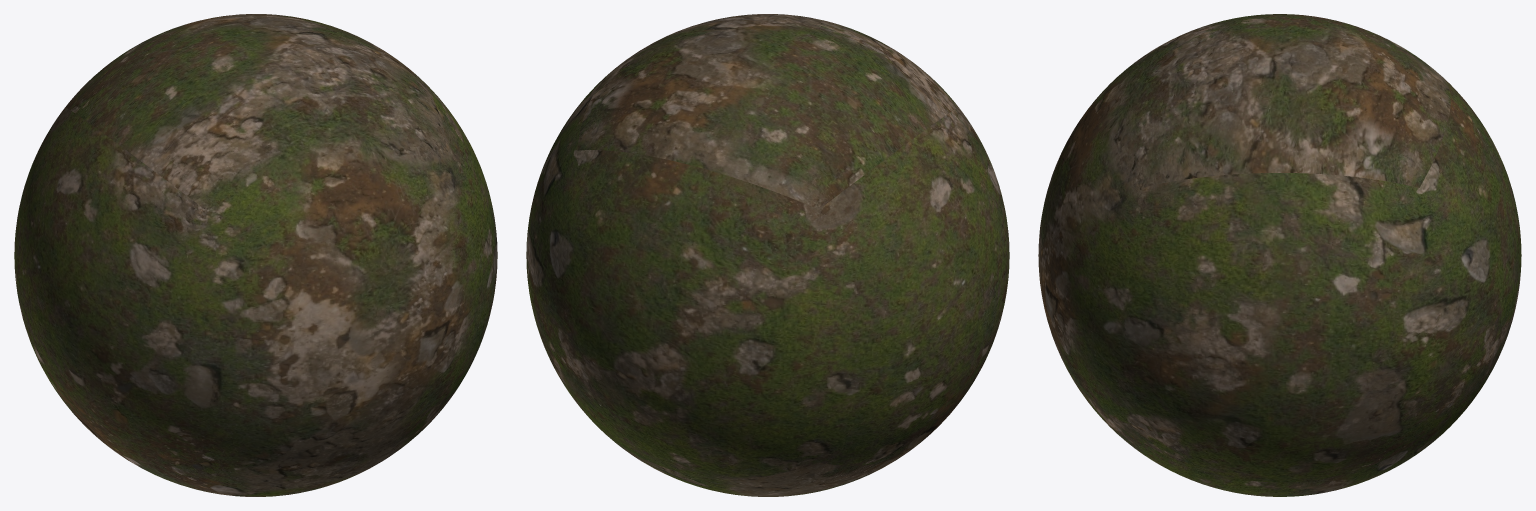
The model's file is radioball.glb.
The picture shows the model from 3 angles, left to right: view 1: azimuth 30°, elevation 25°; view 2: azimuth 150°, elevation 25°; view 3: azimuth 270°, elevation 25°; orthographic projection.
Parts seen in each view (by area): view 1: Quad Sphere; view 2: Quad Sphere; view 3: Quad Sphere.
Part boxes in pixels (left/top/right/bottom): Quad Sphere: left=14, top=14, right=497, bottom=496; Quad Sphere: left=526, top=14, right=1009, bottom=496; Quad Sphere: left=1038, top=14, right=1521, bottom=496.
Bounding box in the file's own units: 1.4 × 1.4 × 1.4.
1 material, 1 textured.
